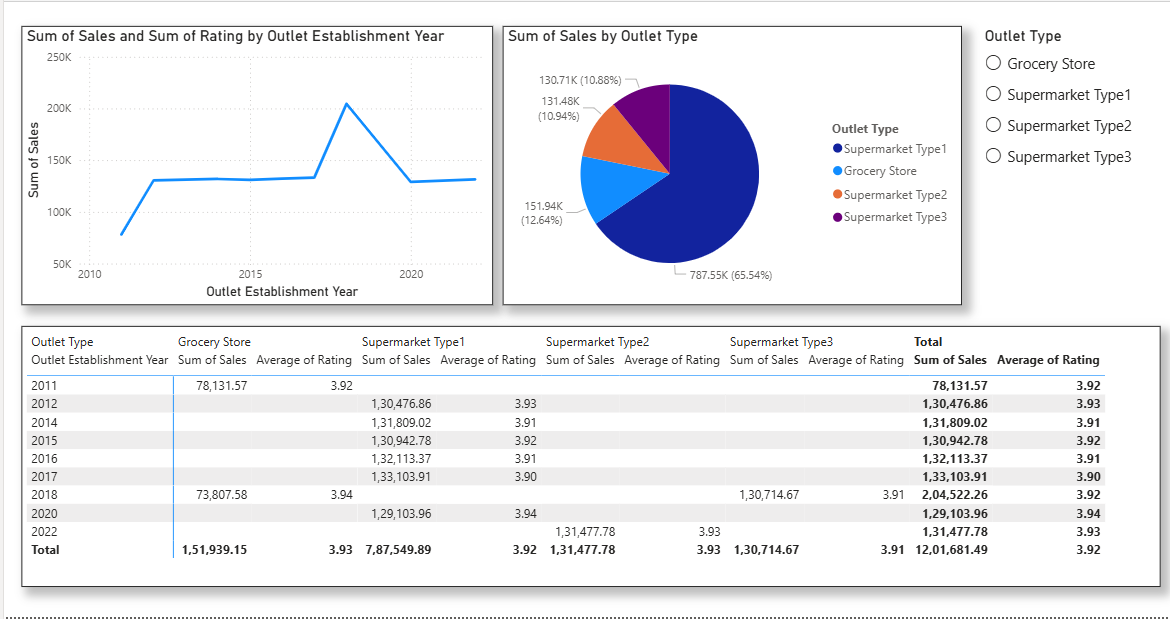

This screenshot's page, from the dashboard's own definition file:
{"tool":"powerbi","page":{"name":"Time-Series Trends","canvas":[1280,720],"ordinal":1},"visuals":[{"type":"lineChart","fields":{"Category":["BlinkIT Grocery Data.Outlet Establishment Year"],"Y":["Sum(BlinkIT Grocery Data.Sales)"]},"box":[19.2,71.4,517.3,306],"z":0},{"type":"pieChart","fields":{"Category":["BlinkIT Grocery Data.Outlet Type"],"Y":["Sum(BlinkIT Grocery Data.Sales)"]},"box":[547.5,71.4,503.6,306],"z":1000},{"type":"pivotTable","fields":{"Rows":["BlinkIT Grocery Data.Outlet Establishment Year"],"Columns":["BlinkIT Grocery Data.Outlet Type"],"Values":["Sum(BlinkIT Grocery Data.Sales)","Avg(BlinkIT Grocery Data.Rating)"]},"box":[19.2,400.7,1250.1,286.8],"z":2000},{"type":"listSlicer","fields":{"Values":["BlinkIT Grocery Data.Outlet Type"]},"box":[1071.7,71.4,177,306],"z":3000}]}

Visuals, with their boxes in screenshot pixels (x1, y1, x2, y2):
lineChart - BlinkIT Grocery Data.Outlet Establishment Year x Sum(BlinkIT Grocery Data.Sales): 21,22,492,301
pieChart - BlinkIT Grocery Data.Outlet Type x Sum(BlinkIT Grocery Data.Sales): 502,22,960,301
pivotTable - BlinkIT Grocery Data.Outlet Establishment Year x BlinkIT Grocery Data.Outlet Type: 21,322,1159,583
listSlicer - BlinkIT Grocery Data.Outlet Type: 979,22,1140,301
